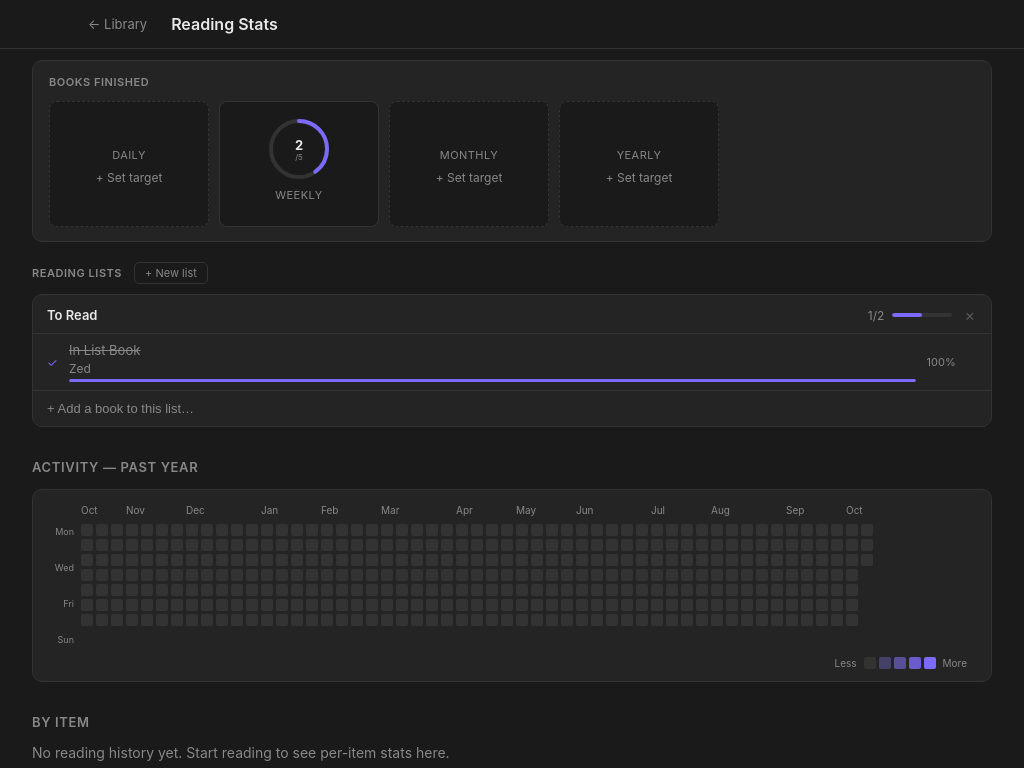
Scenario: StatsView — goals: populated list card › shows "No matching books" when the search has no results
(page scrolled)
Type "zzzzz" into the field with placeholder "+ Add a book to this list…".
click(512, 408); type("zzzzz")  # box top-left (33, 391), bottom-right (991, 426)
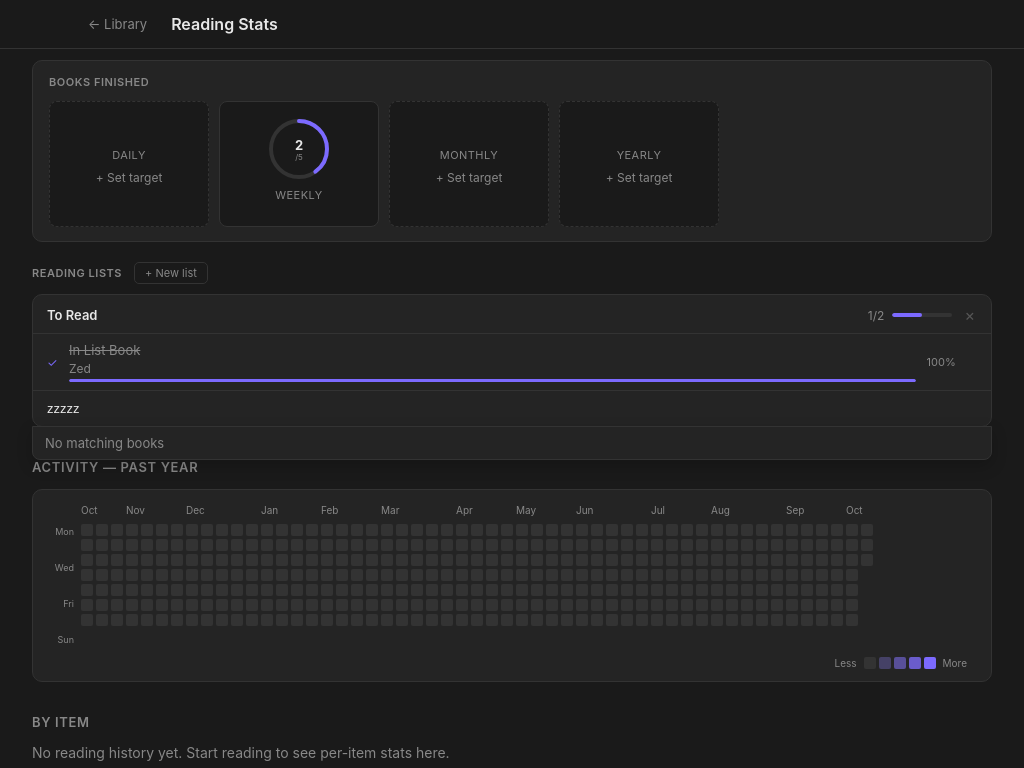
Expected: the text "No matching books" is shown, top-left (45, 435), bottom-right (164, 451)
